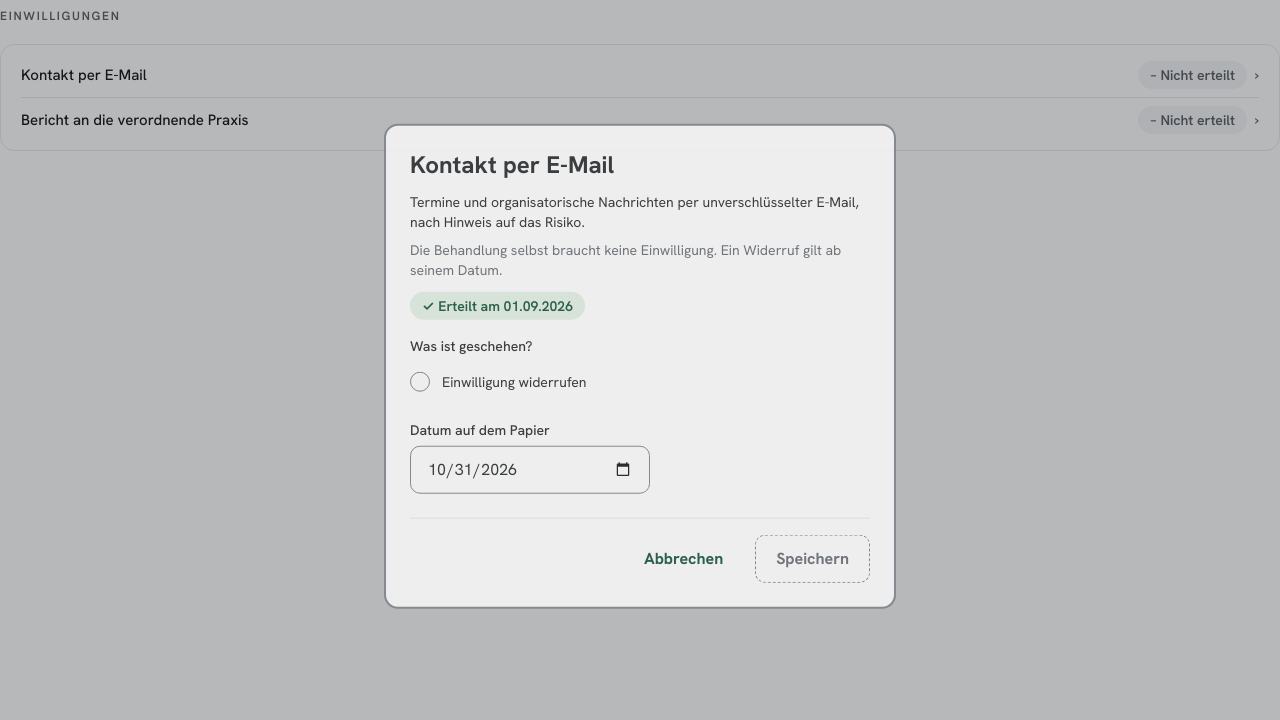
Test: Datenschutz der Akte › belegt nichts vor und sperrt das Speichern bis zur Wahl
Click the button "Kontakt per E-Mail – Nicht erteilt ›".
click(84, 75)  # box [13,53,1267,97]
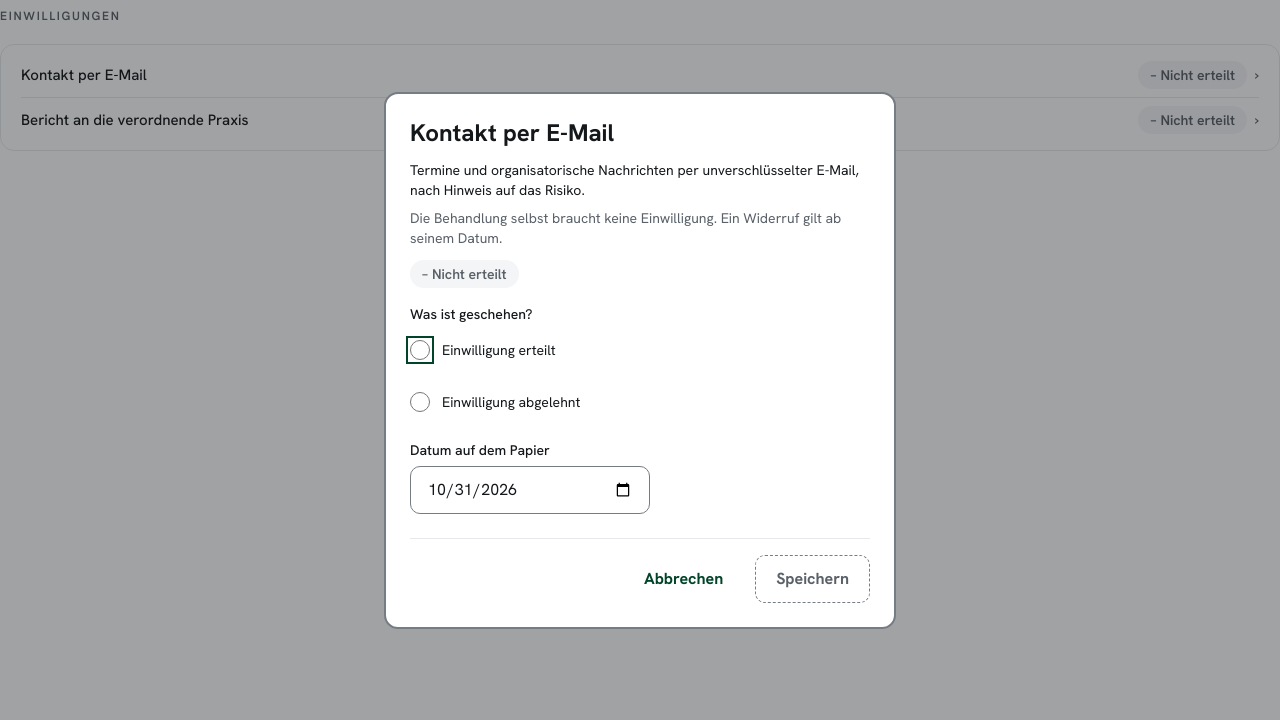
Expected: the button "Speichern" is disabled, [755,554,870,602]
Expected: the radio button labelled "Einwilligung erteilt" is not checked
Expected: the radio button labelled "Einwilligung abgelehnt" is not checked, [410,392,430,412]
Click the radio button labelled "Einwilligung erteilt".
click(420, 350)  # box [410,340,430,360]
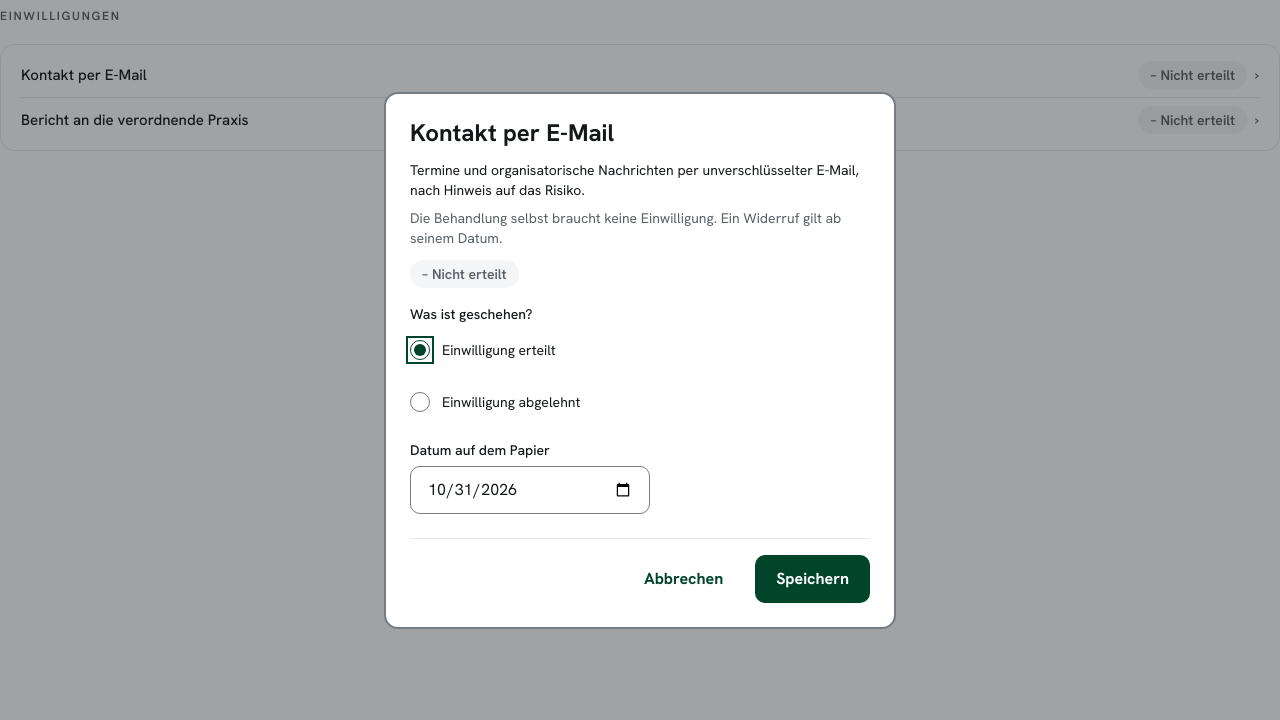
Expected: the button "Speichern" is enabled, [755,554,870,602]
